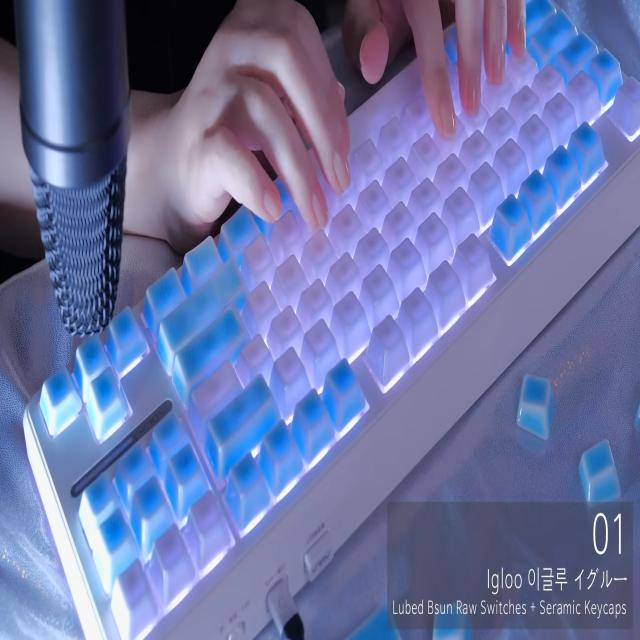keyboard-with-hands: (26, 0, 640, 640)
